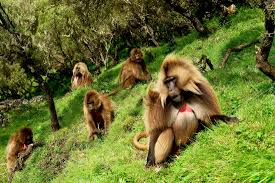Gelada: (141, 56, 219, 154), (82, 87, 114, 140), (119, 47, 148, 90), (8, 127, 34, 168), (71, 61, 91, 88)
